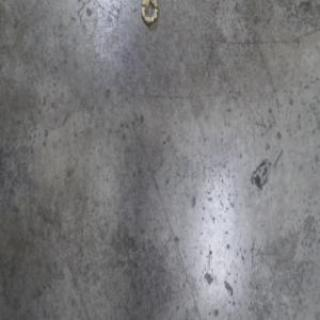Nuttrack_idkeyframe: (140, 0, 158, 28)
